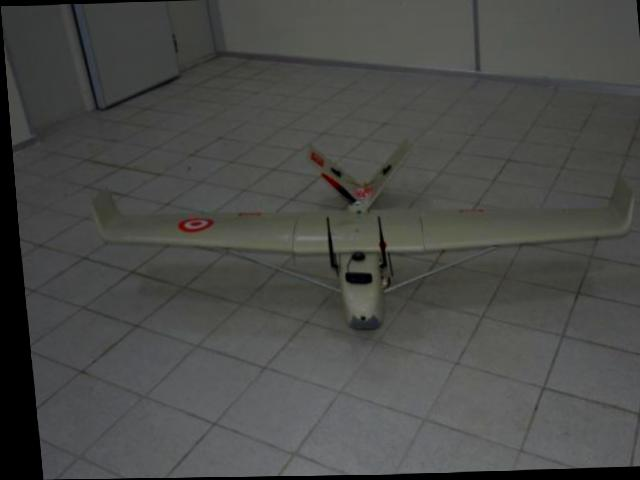iha: (76, 144, 640, 320)
